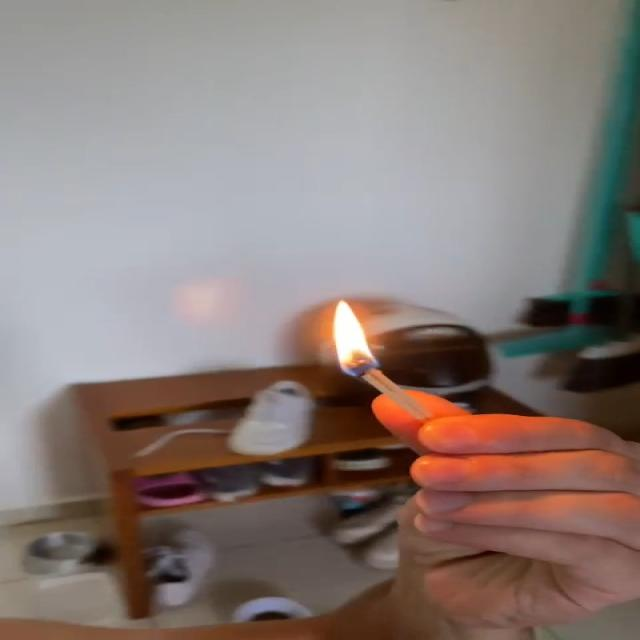fogo-ypXI: (326, 298, 381, 377)
